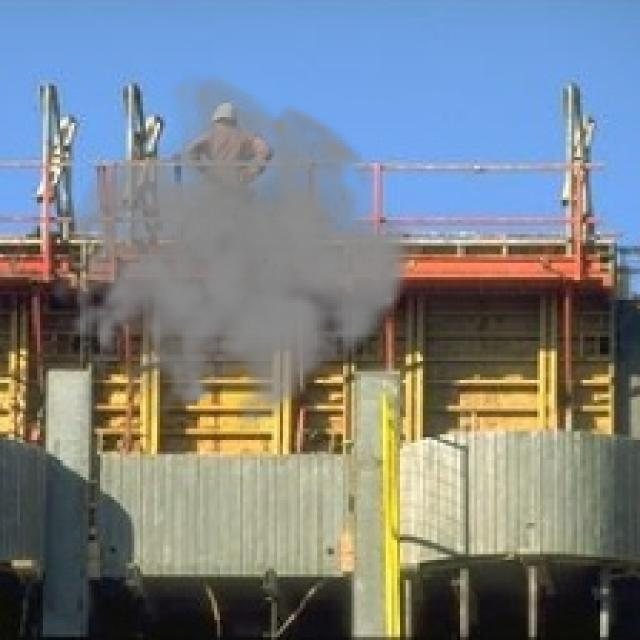smoke: (49, 68, 420, 443)
